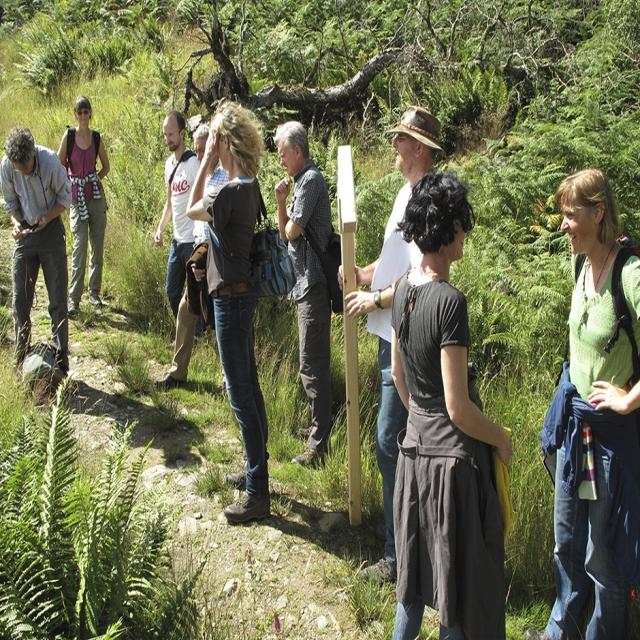body: (334, 102, 460, 592), (387, 170, 518, 639), (522, 163, 640, 639), (184, 96, 300, 526), (272, 117, 352, 469), (21, 338, 206, 468), (154, 123, 231, 391), (0, 124, 74, 378), (152, 109, 208, 346), (56, 92, 112, 322)
